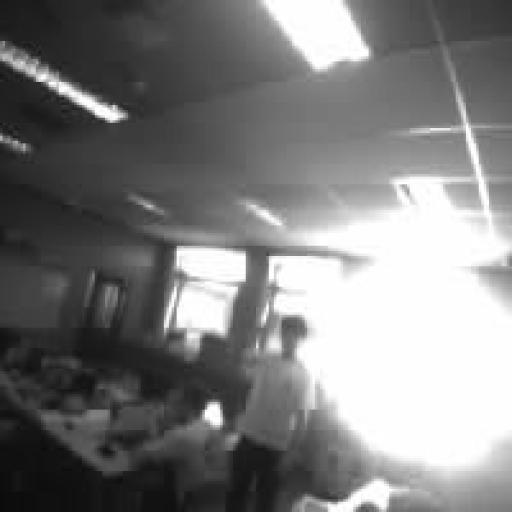human: (226, 315, 314, 511), (131, 387, 215, 509), (0, 337, 36, 433)
